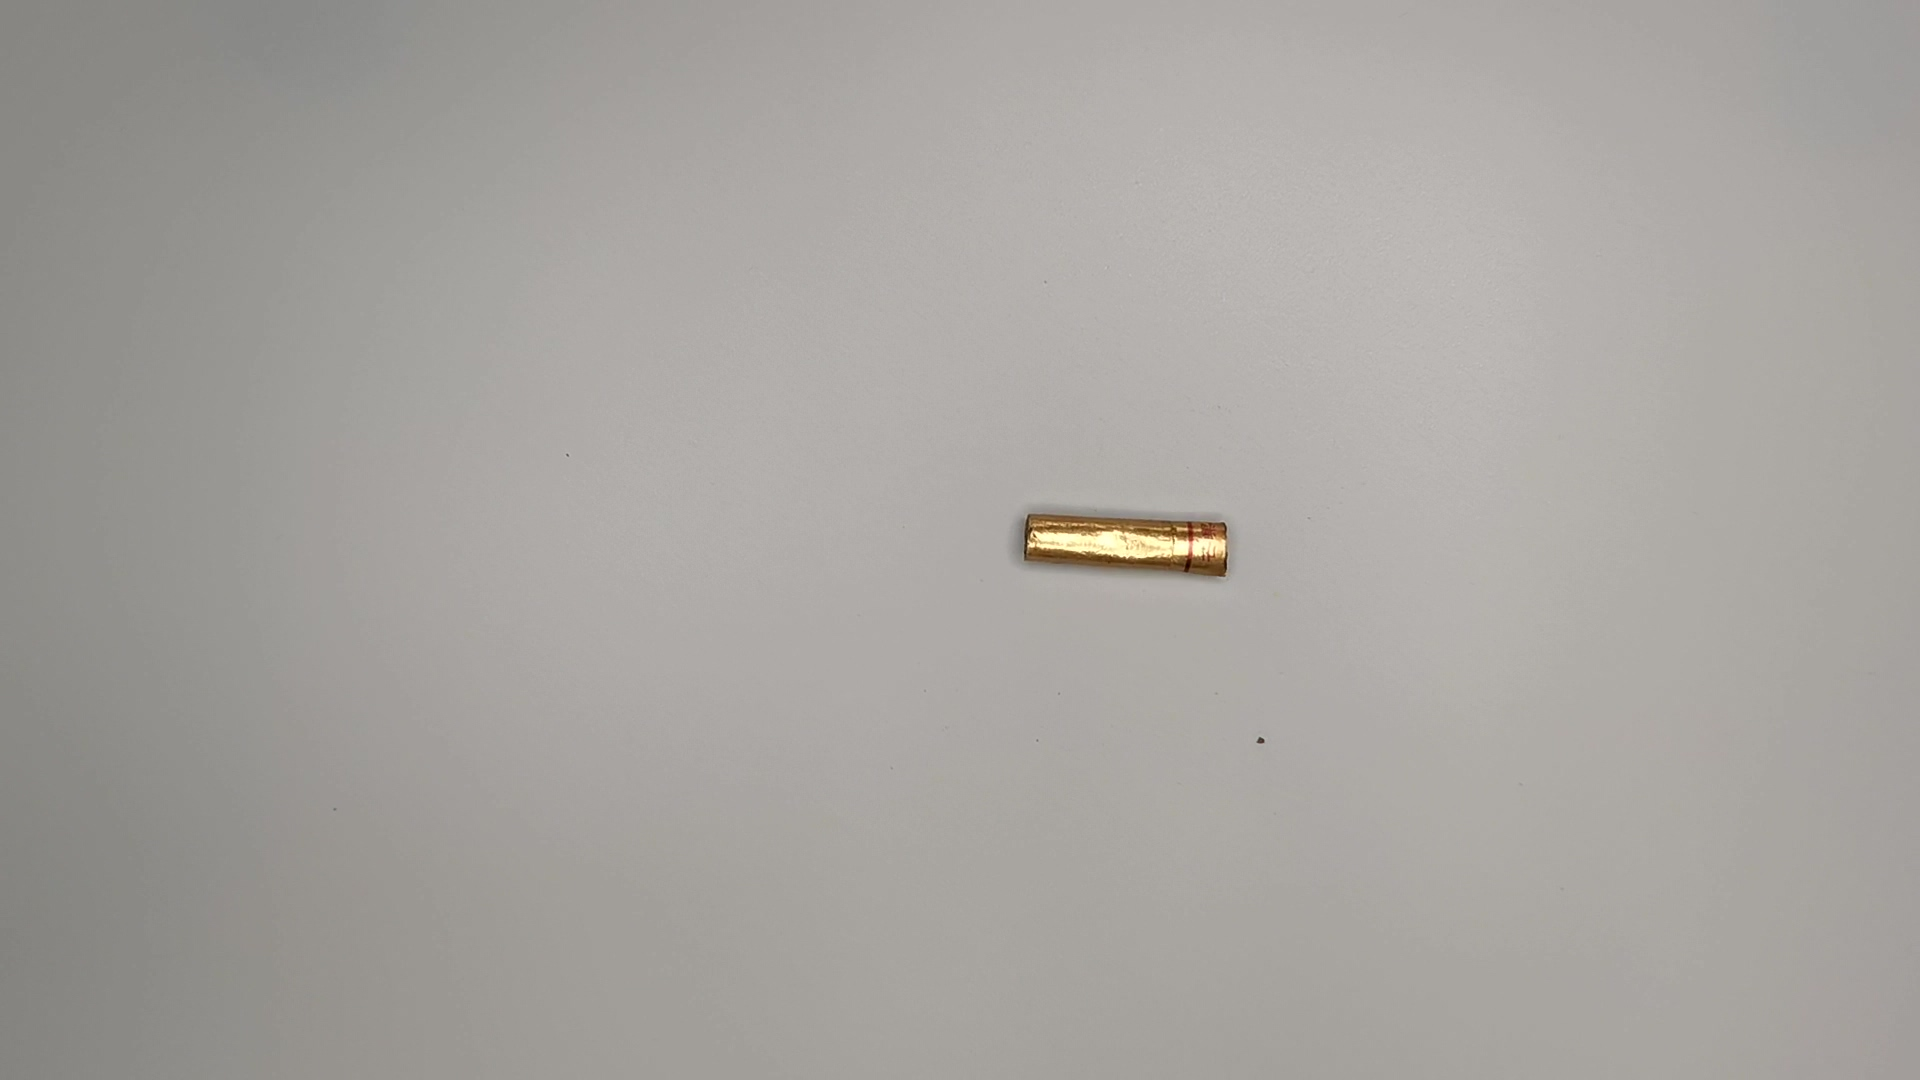cigarette: (1011, 505, 1238, 585)
